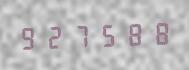eight: (118, 19, 142, 48), (143, 18, 167, 47)
five: (93, 20, 117, 49)
nine: (17, 22, 41, 51)
seven: (68, 20, 92, 50)
two: (42, 21, 66, 50)
